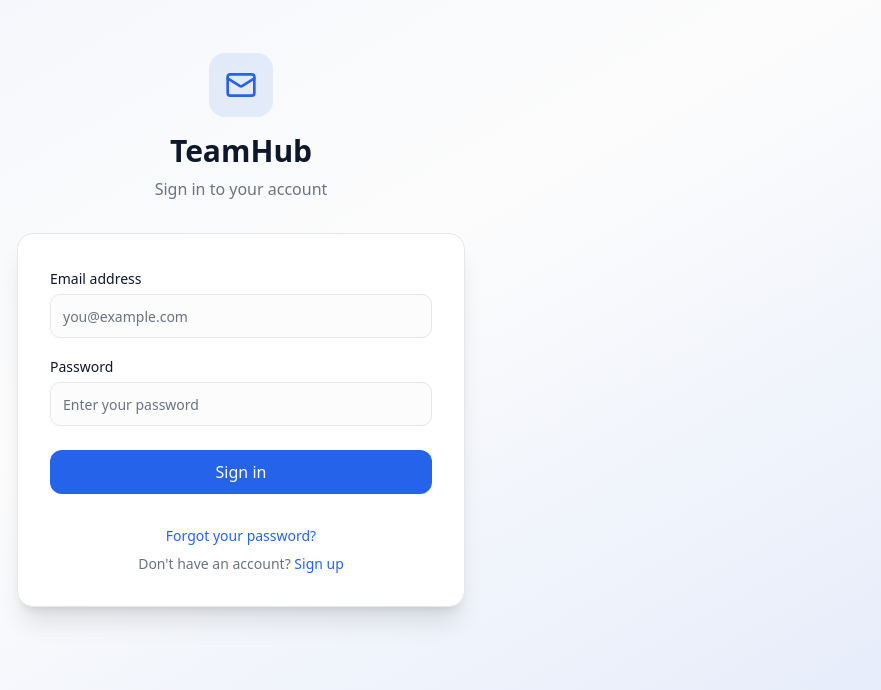
Test: LoginPage › shows error when login fails
The image size is (881, 690).
In the field with test id "login-email": (241, 316) [50,294,432,338], type "wrong@example.com"
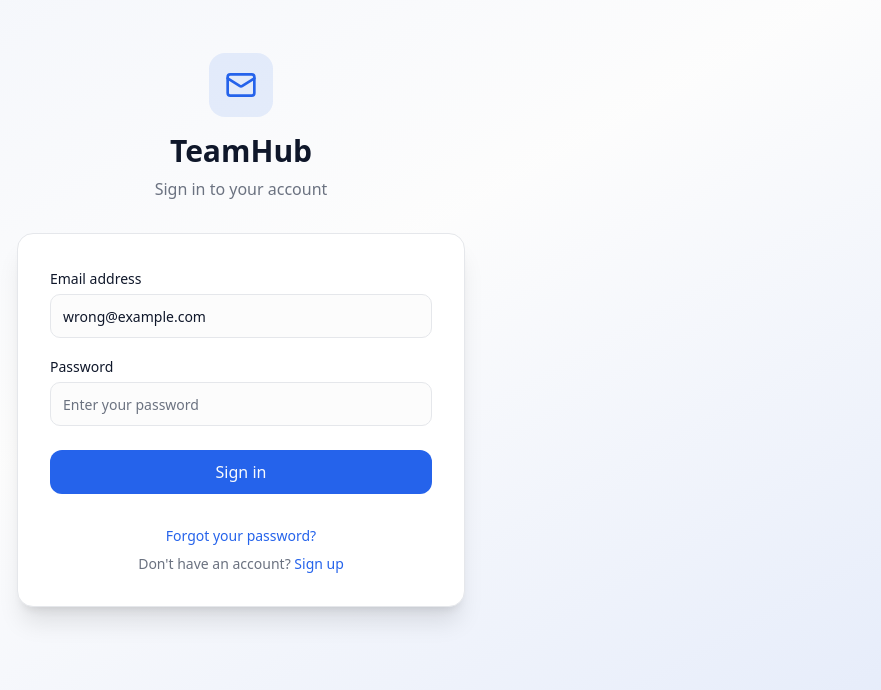
In the password field with test id "login-password": (241, 404) [50,382,432,426], type "wrong"
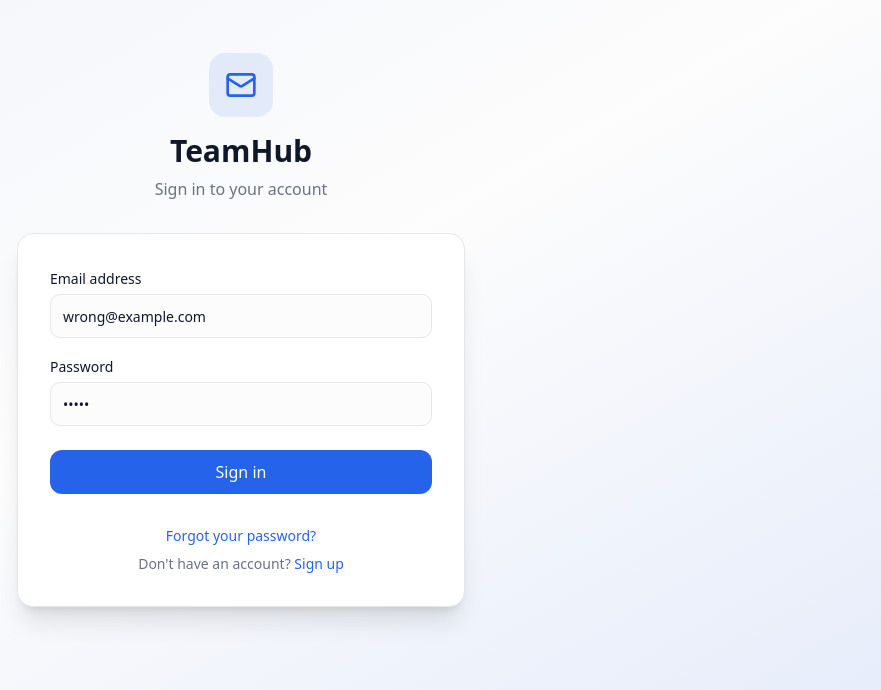
Click the button with test id "login-submit": click(241, 472) [50,450,432,494]
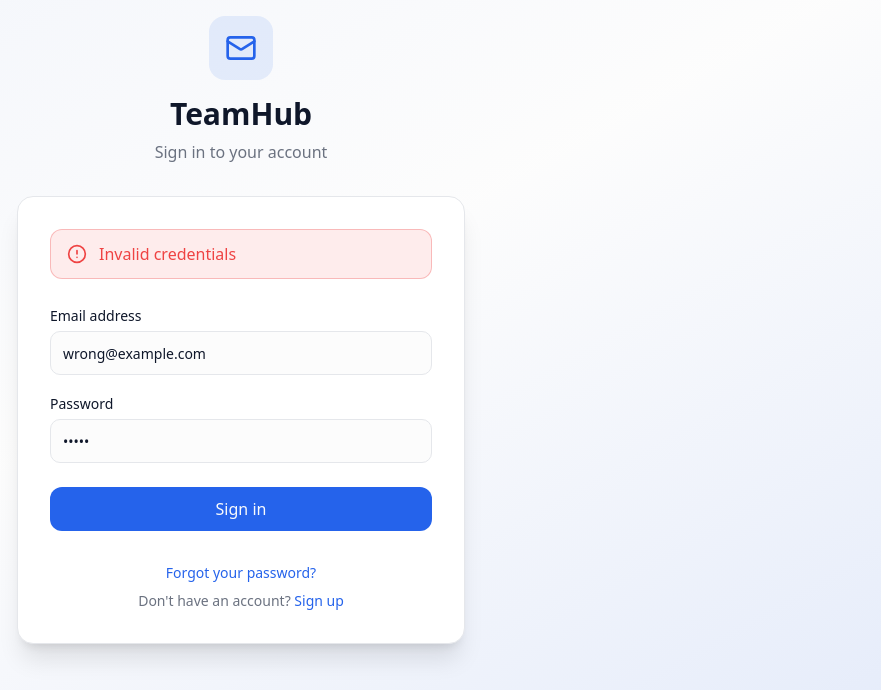
Expected: the text "Invalid credentials" is shown, [99,242,236,266]
